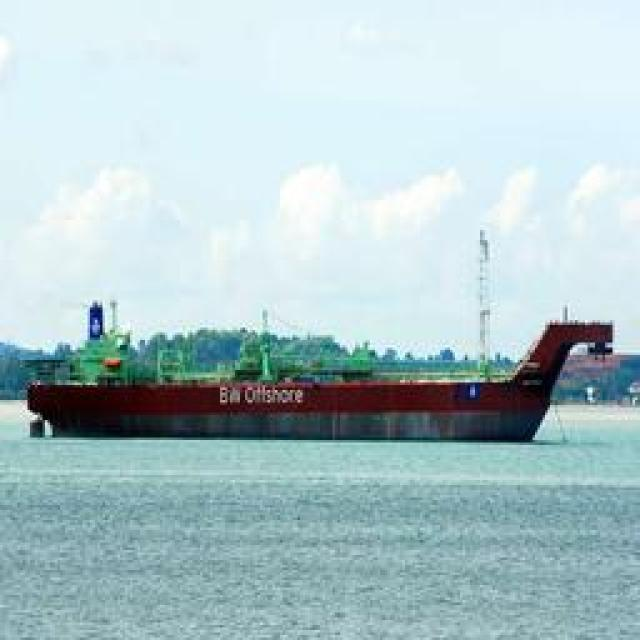ship2: (26, 300, 615, 443)
